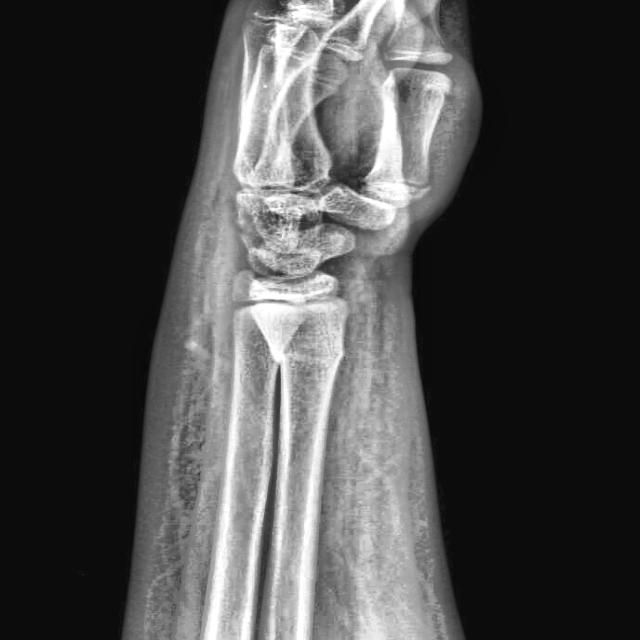line: (268, 350, 347, 367)
